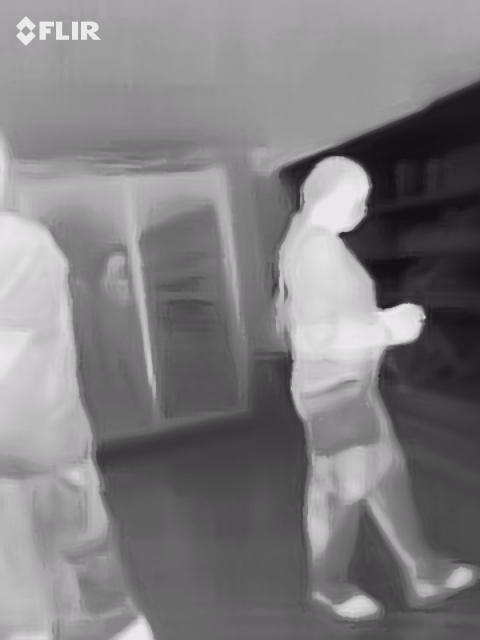head: (302, 155, 373, 237)
